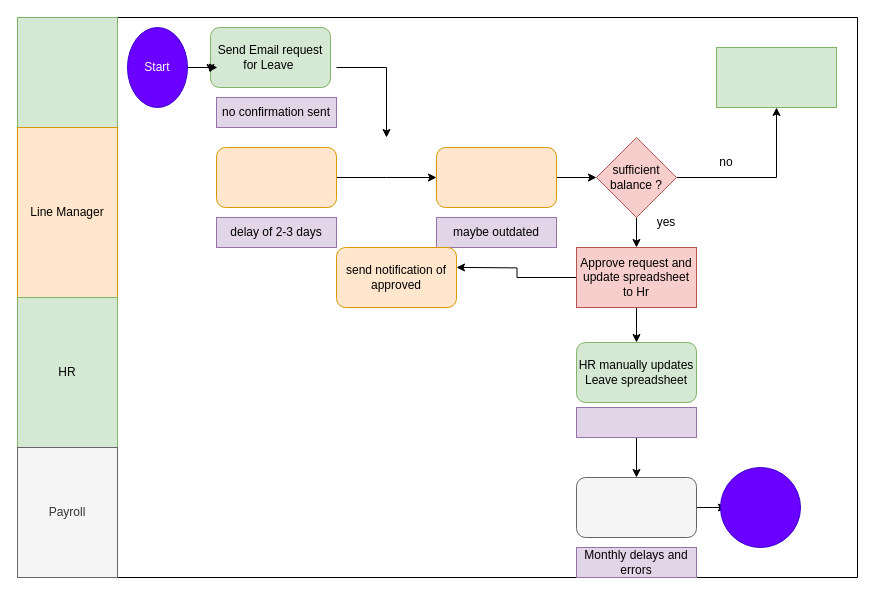
This 875x595 diagram has some shape labels left out. The shapes that lost their labels are listed below. From the top down, each one's centre as x and y in pixels, then its label:
[67,72]: Employee
[776,77]: notified of rejection by email
[276,177]: View Email when availabe
[496,177]: Check leave Balance from spreadsheet
[636,422]: error prone, no audit
[636,507]: payroll manually adjusted by end of month
[760,507]: end process
